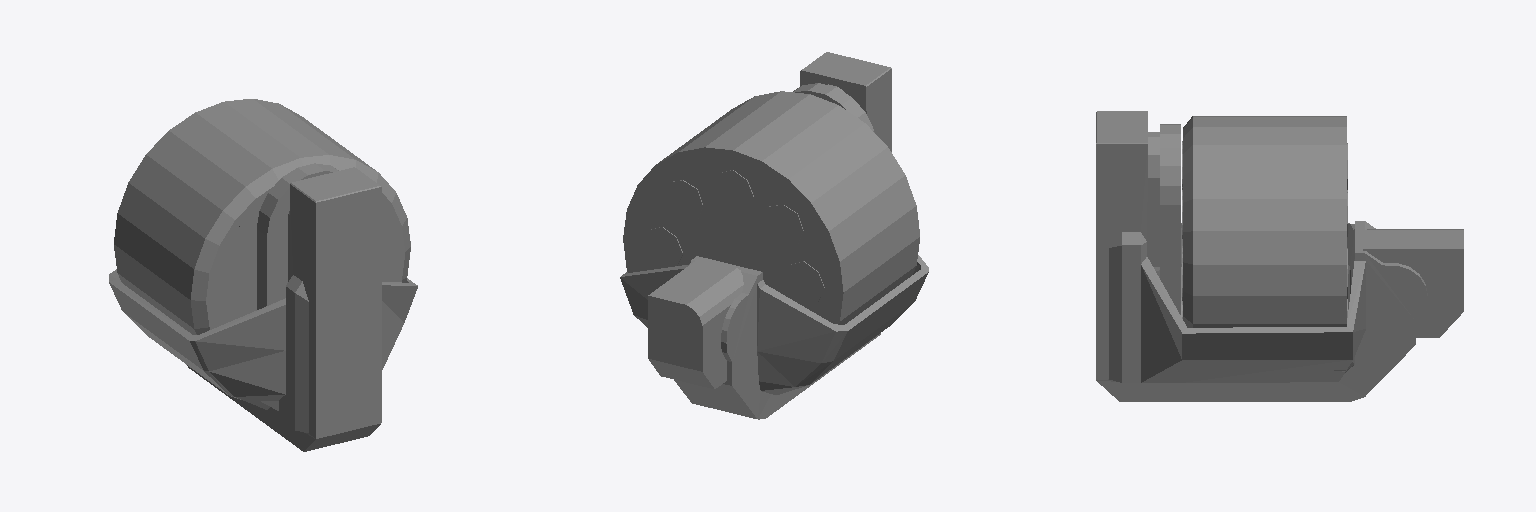
File: mag2_noSpeedloader.obj
3 views of the same model, side by side, from view 1: azimuth 30°, elevation 25°; view 2: azimuth 150°, elevation 25°; view 3: azimuth 270°, elevation 25° (orthographic).
Parts seen in each view (by area): view 1: mag2.005, mag2.004, mag2.001, mag2.009, mag2.008, mag2.013; view 2: mag2.004, mag2.005, mag2.003, mag2.006, mag2.008, mag2.007, mag2.009, mag2.013, mag2.001; view 3: mag2.005, mag2.004, mag2.003, mag2.001, mag2.002.
Part boxes in pixels (x1,y1,x2,y2): mag2.005: (109, 167, 417, 451); mag2.004: (114, 99, 410, 334); mag2.001: (257, 163, 338, 309); mag2.009: (213, 271, 256, 317); mag2.008: (234, 214, 258, 259); mag2.013: (382, 237, 398, 280); mag2.004: (623, 91, 919, 324); mag2.005: (620, 52, 928, 419); mag2.003: (648, 259, 743, 388); mag2.006: (663, 180, 702, 222); mag2.008: (763, 205, 803, 246); mag2.007: (712, 170, 753, 213); mag2.009: (783, 261, 824, 304); mag2.013: (641, 227, 682, 268); mag2.001: (793, 83, 874, 132); mag2.005: (1096, 111, 1427, 401); mag2.004: (1183, 116, 1346, 327); mag2.003: (1363, 229, 1463, 337); mag2.001: (1160, 124, 1180, 314); mag2.002: (1147, 132, 1159, 266).
Size of the model in its own units: 14.42 by 15.73 by 20.23.